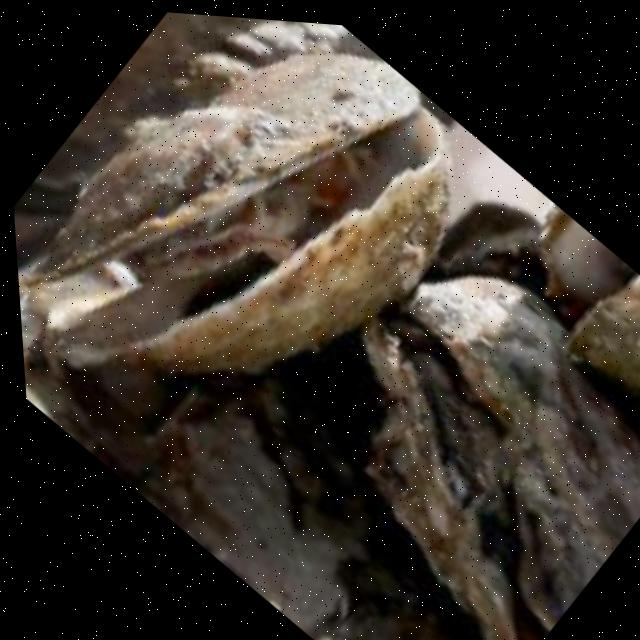Oyster-Closed: (363, 272, 640, 640)
Oyster-Indeterminate: (20, 306, 442, 640), (14, 12, 392, 220)
Oyster-Open: (21, 55, 454, 376), (536, 205, 640, 390)
